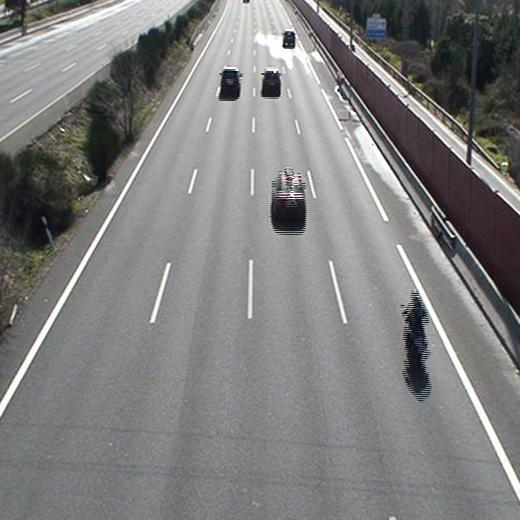car: (271, 169, 307, 219), (261, 68, 282, 94), (221, 67, 241, 91), (282, 29, 295, 48)
motorcycle: (401, 290, 430, 386)
